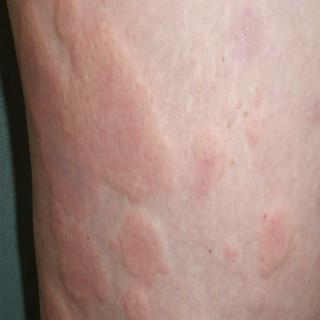urticaria: (39, 150, 217, 320), (26, 59, 144, 138), (250, 178, 295, 275), (14, 10, 116, 46), (239, 92, 273, 154)
